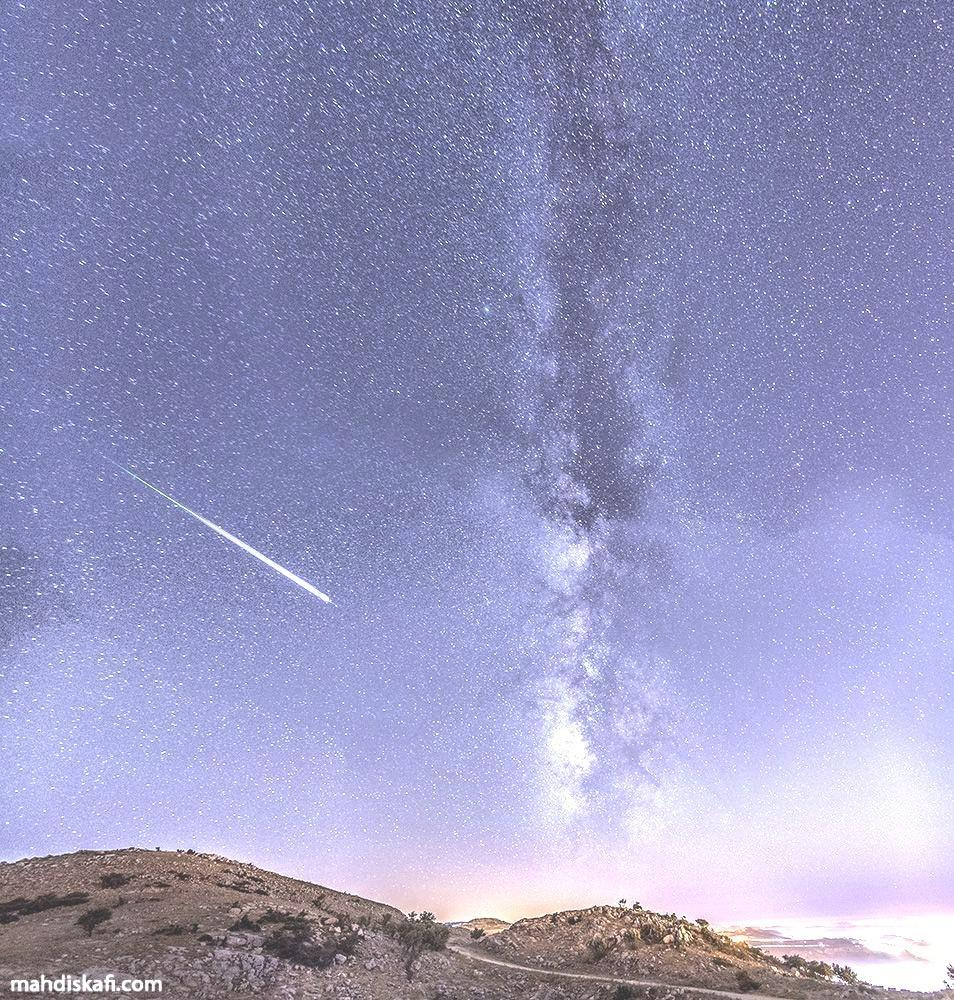meteorite: (107, 435, 360, 609)
